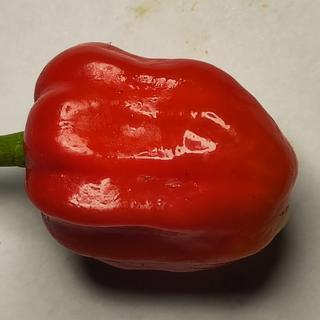Grade-A: (20, 32, 301, 276)
